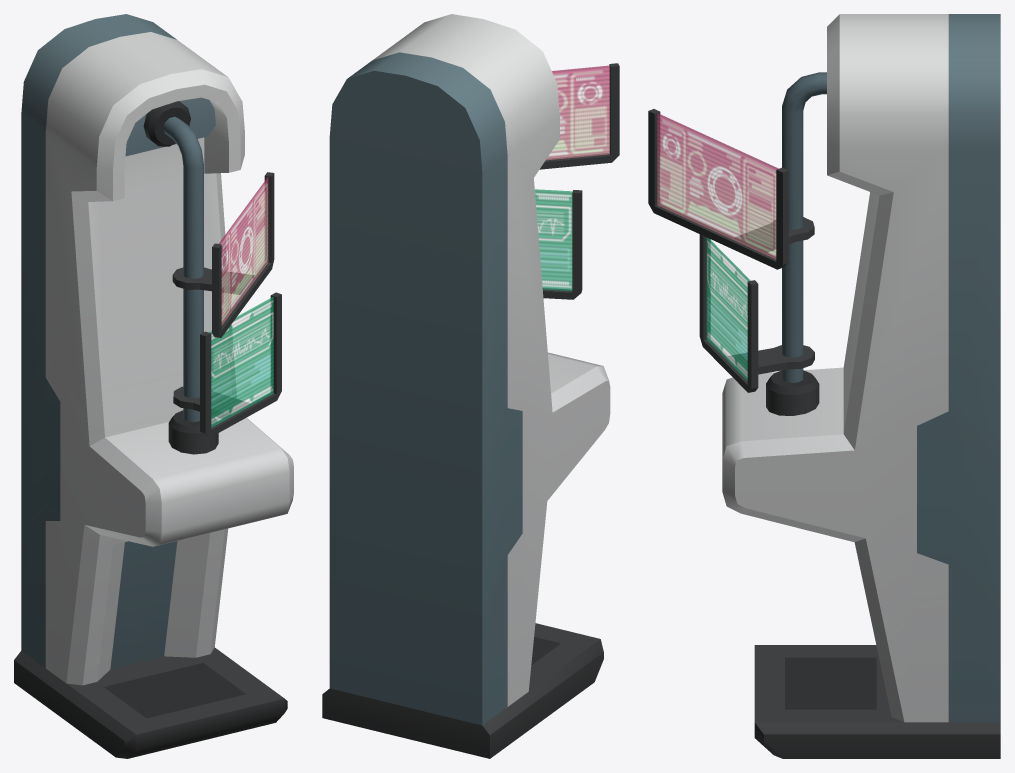
The model's file is Terminal_006.glb.
The picture shows the model from 3 angles, left to right: view 1: azimuth 30°, elevation 25°; view 2: azimuth 150°, elevation 25°; view 3: azimuth 270°, elevation 25°; orthographic projection. The views are drawn at different scales.
Parts seen in each view (by area): view 1: Terminal_006; view 2: Terminal_006; view 3: Terminal_006.
Part boxes in pixels (<box>): Terminal_006: <box>14,14,293,758</box>; Terminal_006: <box>322,14,619,758</box>; Terminal_006: <box>648,14,1000,758</box>.
Bounding box in the file's own units: 0.5562 × 2.1 × 0.9739.
2 materials, 2 textured.
